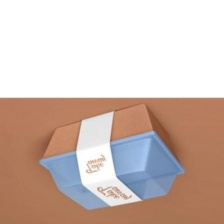plastic_box: (33, 97, 191, 216)
